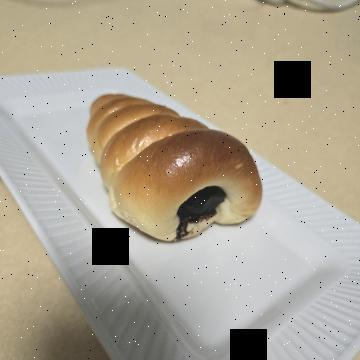cream horn: (81, 80, 257, 275)
